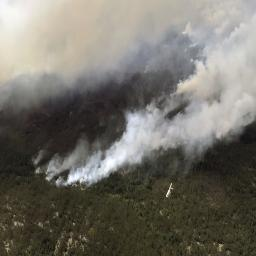Heavy smoke: (5, 3, 128, 90), (198, 12, 256, 136)
Low smoke: (131, 111, 193, 165), (35, 151, 110, 185)
